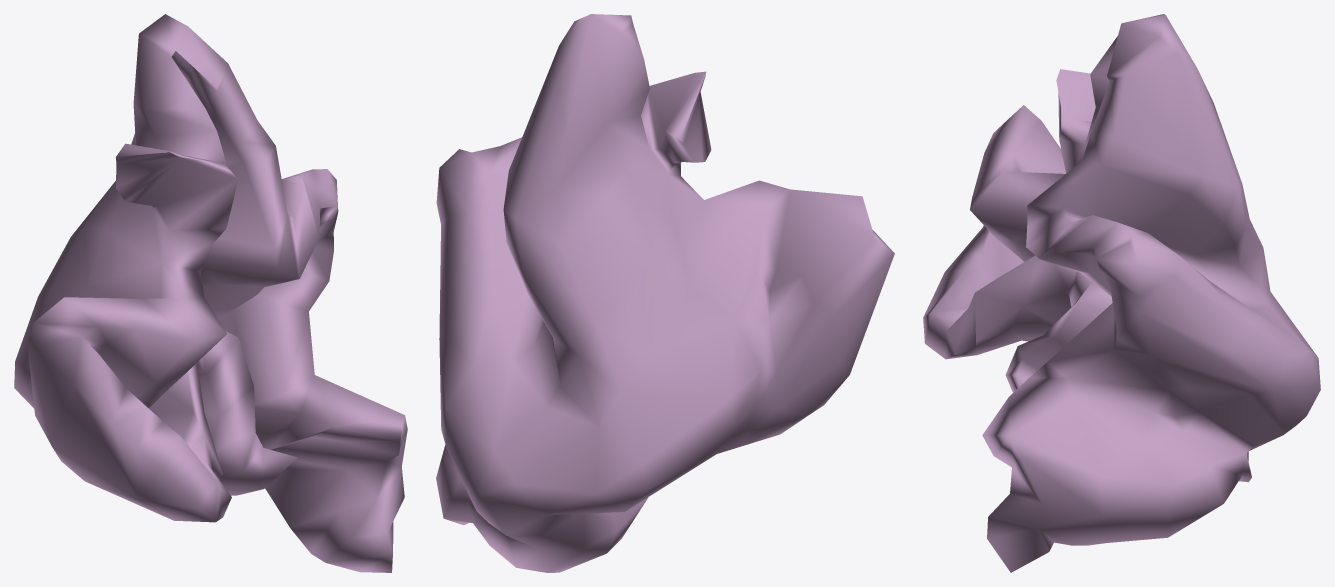
The picture shows the model from 3 angles, left to right: view 1: azimuth 30°, elevation 25°; view 2: azimuth 150°, elevation 25°; view 3: azimuth 270°, elevation 25°; orthographic projection. The views are drawn at different scales.
Parts seen in each view (by area): view 1: 左侧顶内沟; view 2: 左侧顶内沟; view 3: 左侧顶内沟.
Part boxes in pixels (x1=…): 左侧顶内沟: x1=14, y1=14, x2=407, y2=572; 左侧顶内沟: x1=436, y1=14, x2=894, y2=572; 左侧顶内沟: x1=923, y1=14, x2=1320, y2=572.
Size of the model in its own units: 0.0386 by 0.0516 by 0.0377.
